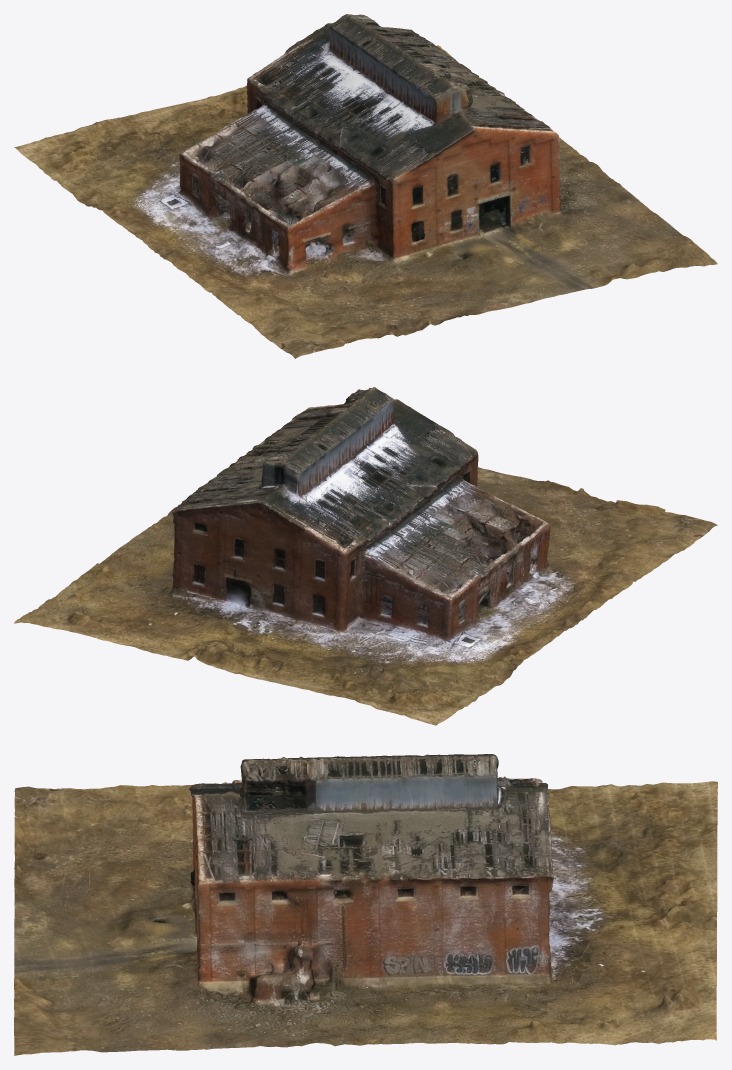
The model's file is sf-scanned-abandoned-building-test-159d5e.glb.
3 views of the same model, one above another, from view 1: azimuth 30°, elevation 25°; view 2: azimuth 150°, elevation 25°; view 3: azimuth 270°, elevation 25° (orthographic). The views are drawn at different scales.
Visible parts, largest first — view 1: Object_material_0_0; view 2: Object_material_0_0; view 3: Object_material_0_0.
Part boxes in pixels (bbox=[...]): Object_material_0_0: bbox=[14, 14, 717, 358]; Object_material_0_0: bbox=[14, 387, 717, 725]; Object_material_0_0: bbox=[14, 754, 717, 1055].
Size of the model in its own units: 76.05 by 26.51 by 87.72.
1 material, 1 textured.
